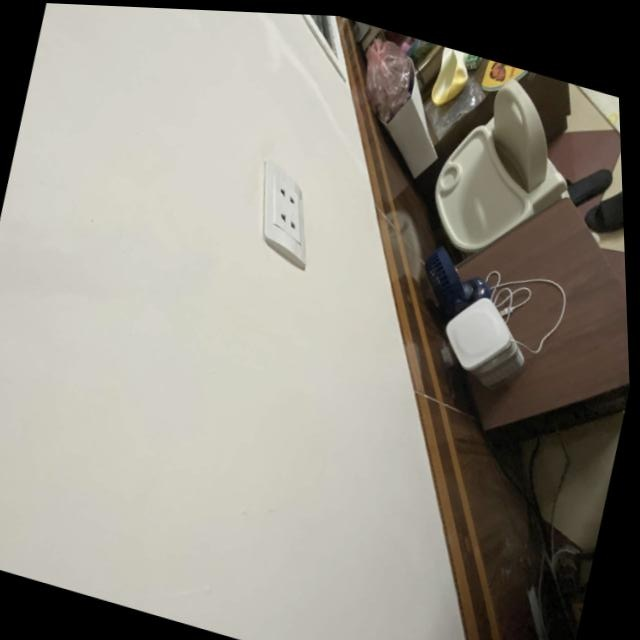outlet: (239, 157, 328, 272)
